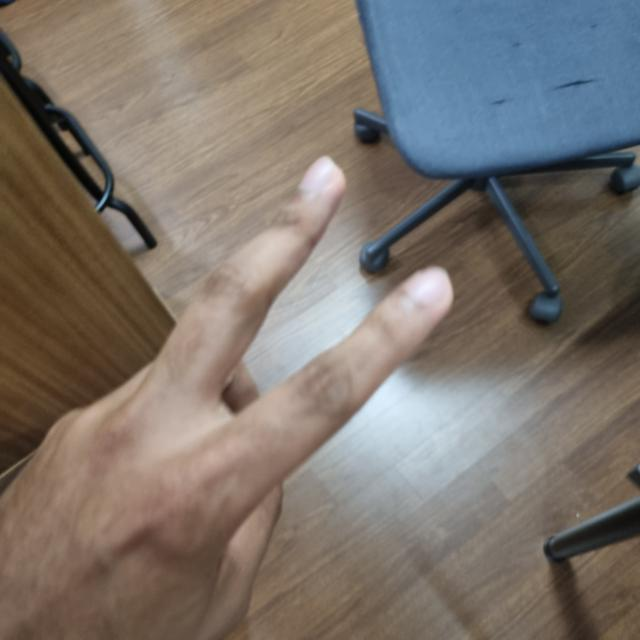Scissors: (0, 156, 447, 639)
